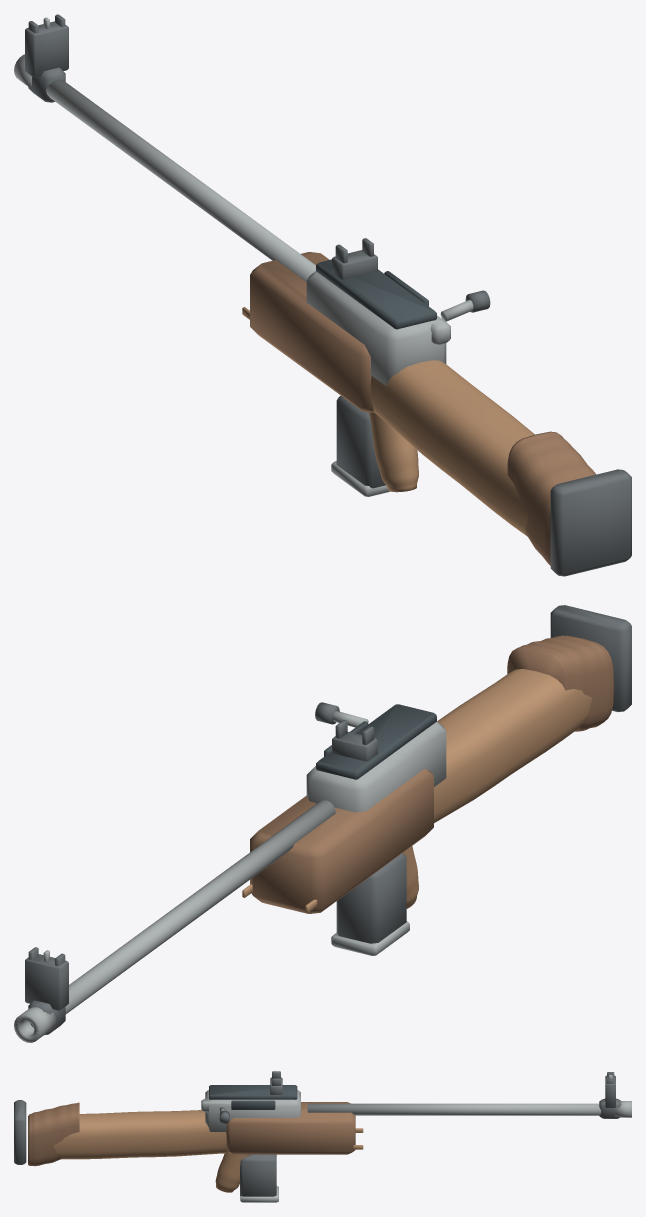
Rendered from bolt_sniper.glb.
3 renders of one model, top to bottom at view 1: azimuth 30°, elevation 25°; view 2: azimuth 150°, elevation 25°; view 3: azimuth 270°, elevation 25°, orthographic. The views are drawn at different scales.
Visible parts, largest first — view 1: profiled_surface; view 2: profiled_surface; view 3: profiled_surface.
Boxes of the visible parts, left/top/right/bottom form: profiled_surface: left=14, top=14, right=631, bottom=576; profiled_surface: left=14, top=605, right=631, bottom=1042; profiled_surface: left=14, top=1071, right=631, bottom=1202.
Size of the model in its own units: 0.2905 by 0.5185 by 2.39.
